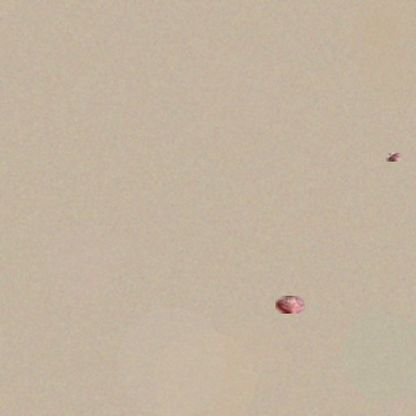damaged: (275, 296, 306, 314)
sprouted: (386, 153, 401, 162)
